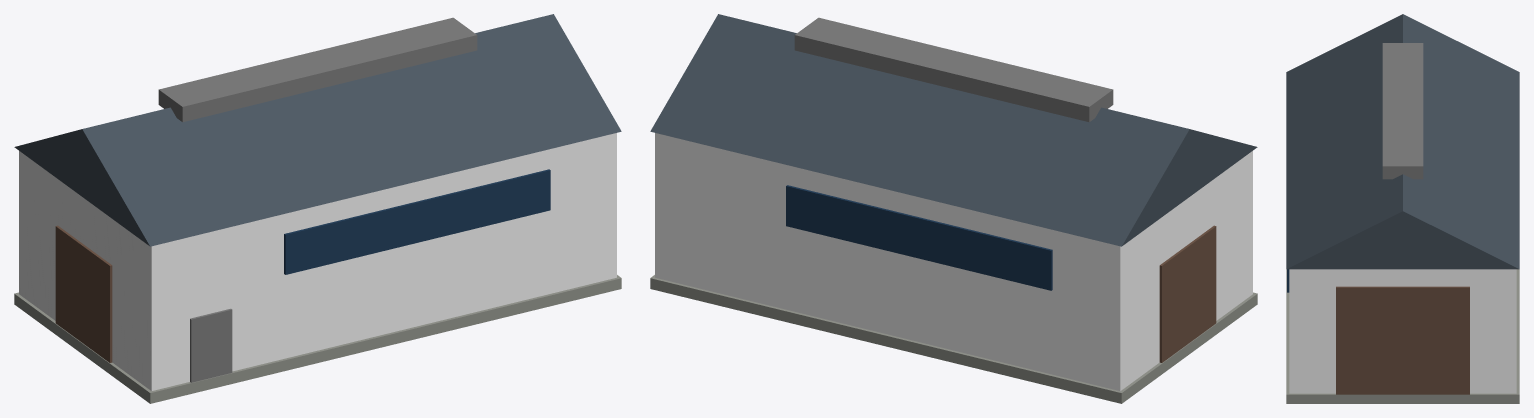
The model's file is site_shed.fbx.
The picture shows the model from 3 angles, left to right: view 1: azimuth 30°, elevation 25°; view 2: azimuth 150°, elevation 25°; view 3: azimuth 270°, elevation 25°; orthographic projection. The views are drawn at different scales.
Visible parts, largest first — view 1: a1059/0/site_shed; view 2: a1059/0/site_shed; view 3: a1059/0/site_shed.
Part boxes in pixels (x1,y1,x2,y2): a1059/0/site_shed: (14,14,621,403); a1059/0/site_shed: (650,14,1257,403); a1059/0/site_shed: (1286,14,1519,403).
Size of the model in its own units: 16 by 7.6 by 8.
